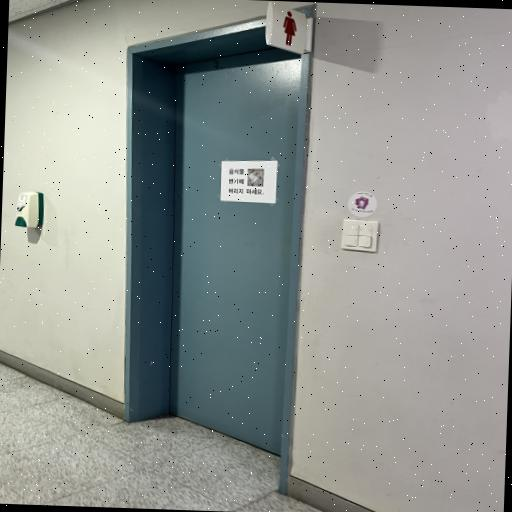door: (125, 4, 316, 495)
